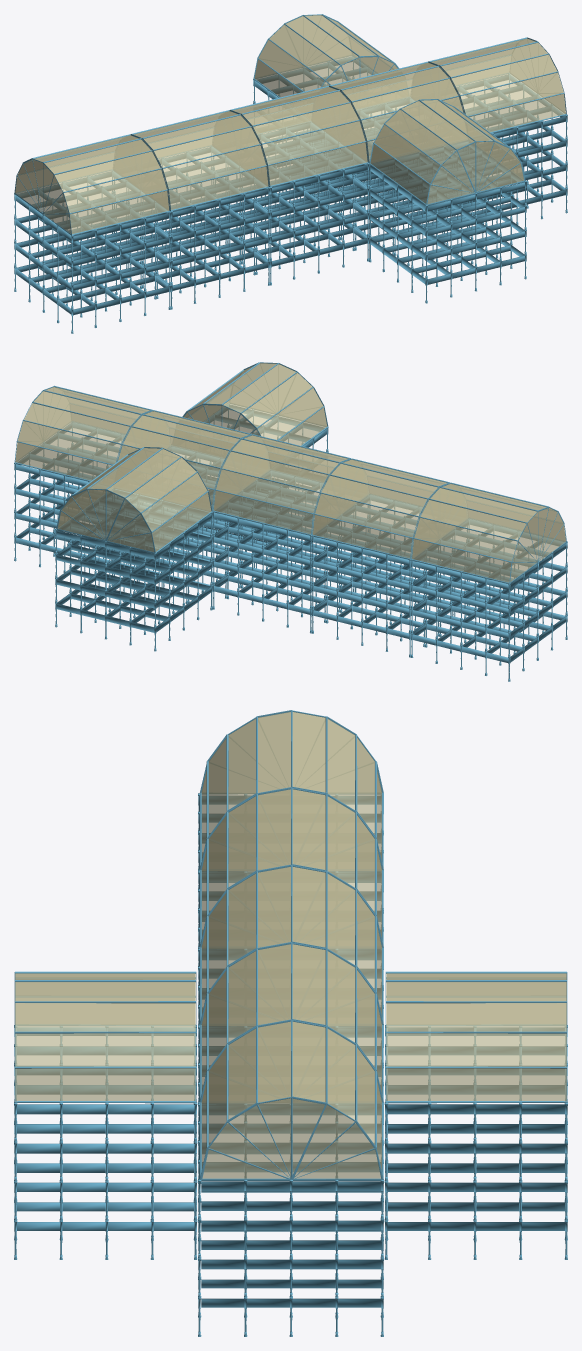
The picture shows the model from 3 angles, top to bottom: view 1: azimuth 30°, elevation 25°; view 2: azimuth 150°, elevation 25°; view 3: azimuth 270°, elevation 25°; orthographic projection. The views are drawn at different scales.
Parts seen in each view (by area): view 1: Cube, Cube.001; view 2: Cube, Cube.001; view 3: Cube, Cube.001.
Part boxes in pixels (<box>): Cube: <box>14,37,567,333</box>; Cube.001: <box>253,14,526,303</box>; Cube: <box>14,385,567,681</box>; Cube.001: <box>55,362,328,651</box>; Cube: <box>198,710,383,1336</box>; Cube.001: <box>14,971,567,1259</box>.
Bounding box in the file's own units: 16.97 × 4.91 × 10.26.
